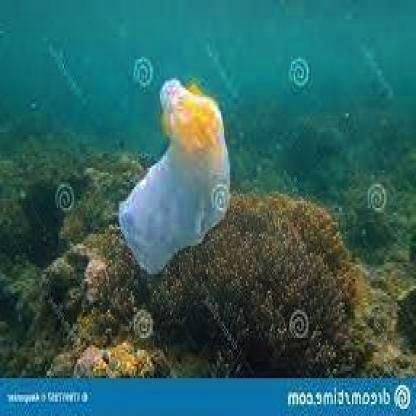pbag: (118, 78, 232, 277)
